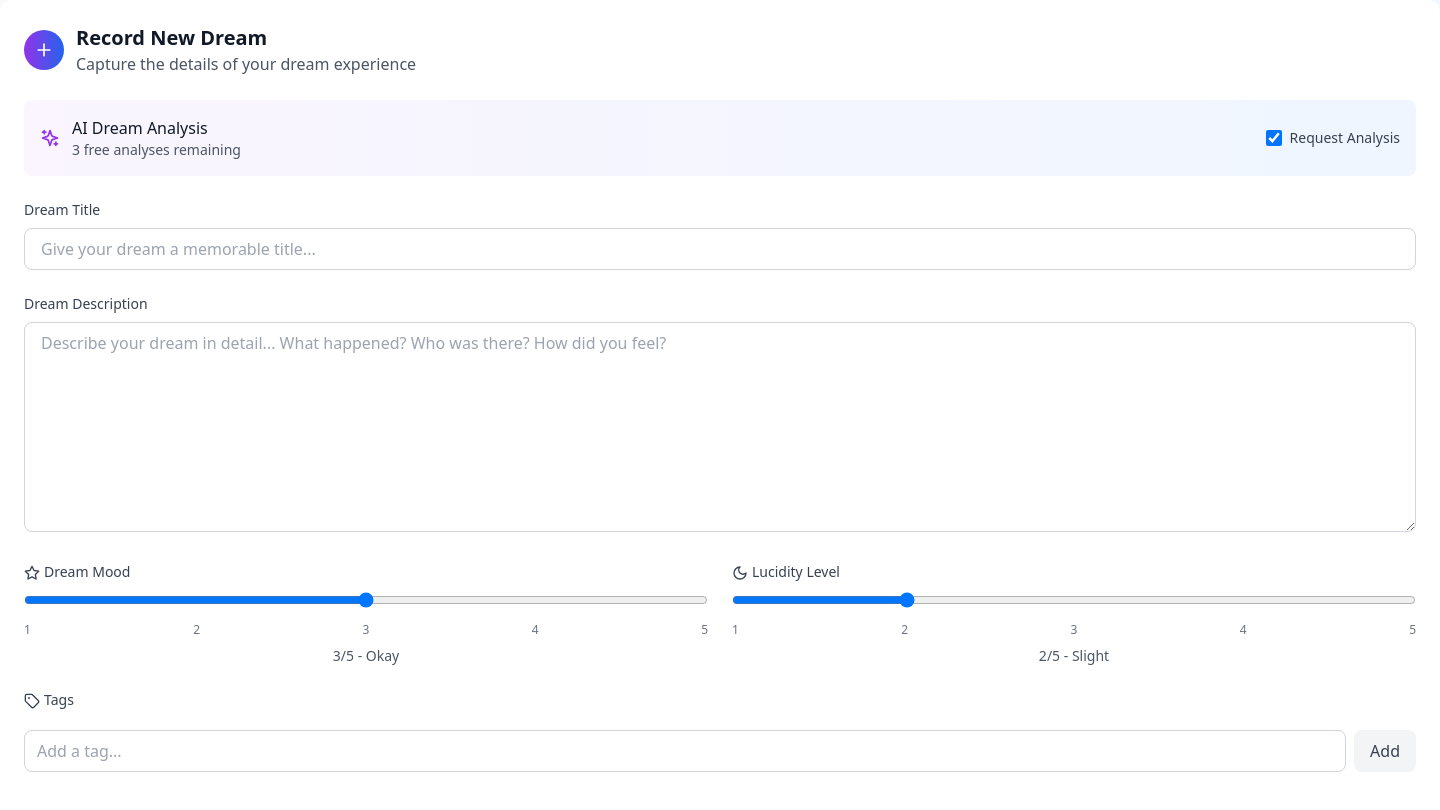
DreamForm › adds and removes tags correctly
Type "nightmare" into the field with placeholder "Add a tag...".
click(685, 751); type("nightmare")  # box [24,730,1346,772]
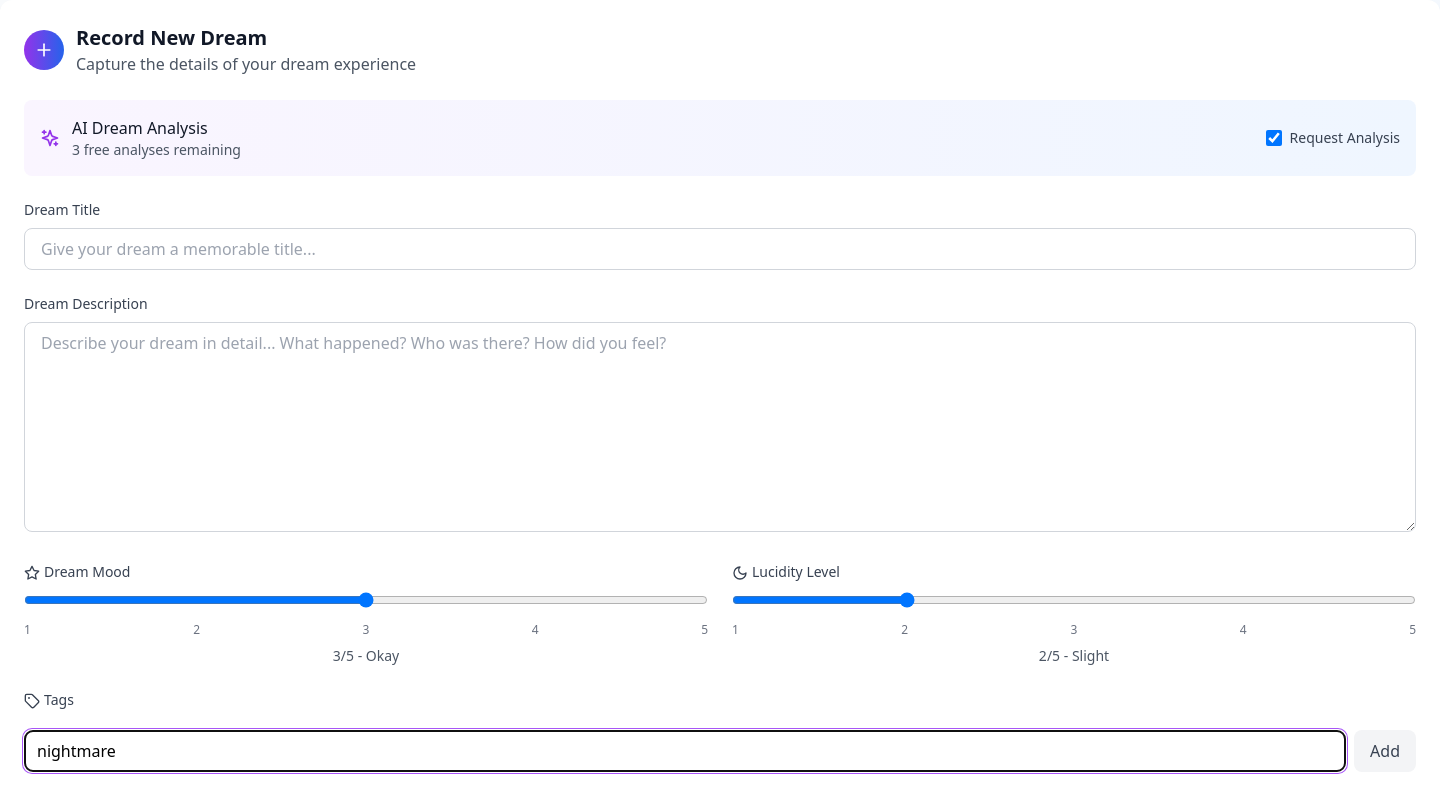
Click the button "Add".
click(1385, 751)  # box [1354,730,1416,772]
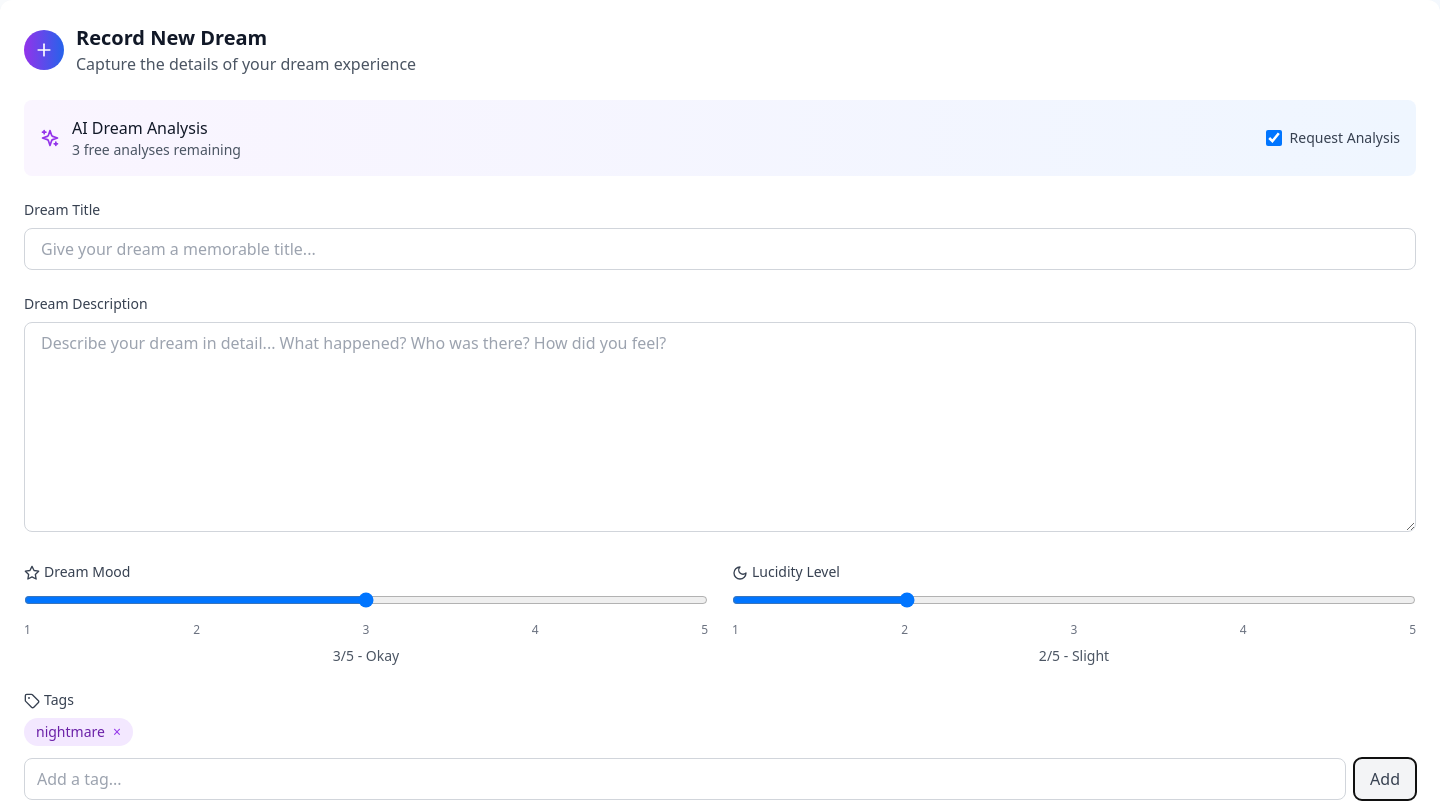
Now the text "nightmare" is shown, box [36,722,105,741]
// Remove tag
Click the button "×".
click(117, 732)  # box [113,722,121,742]
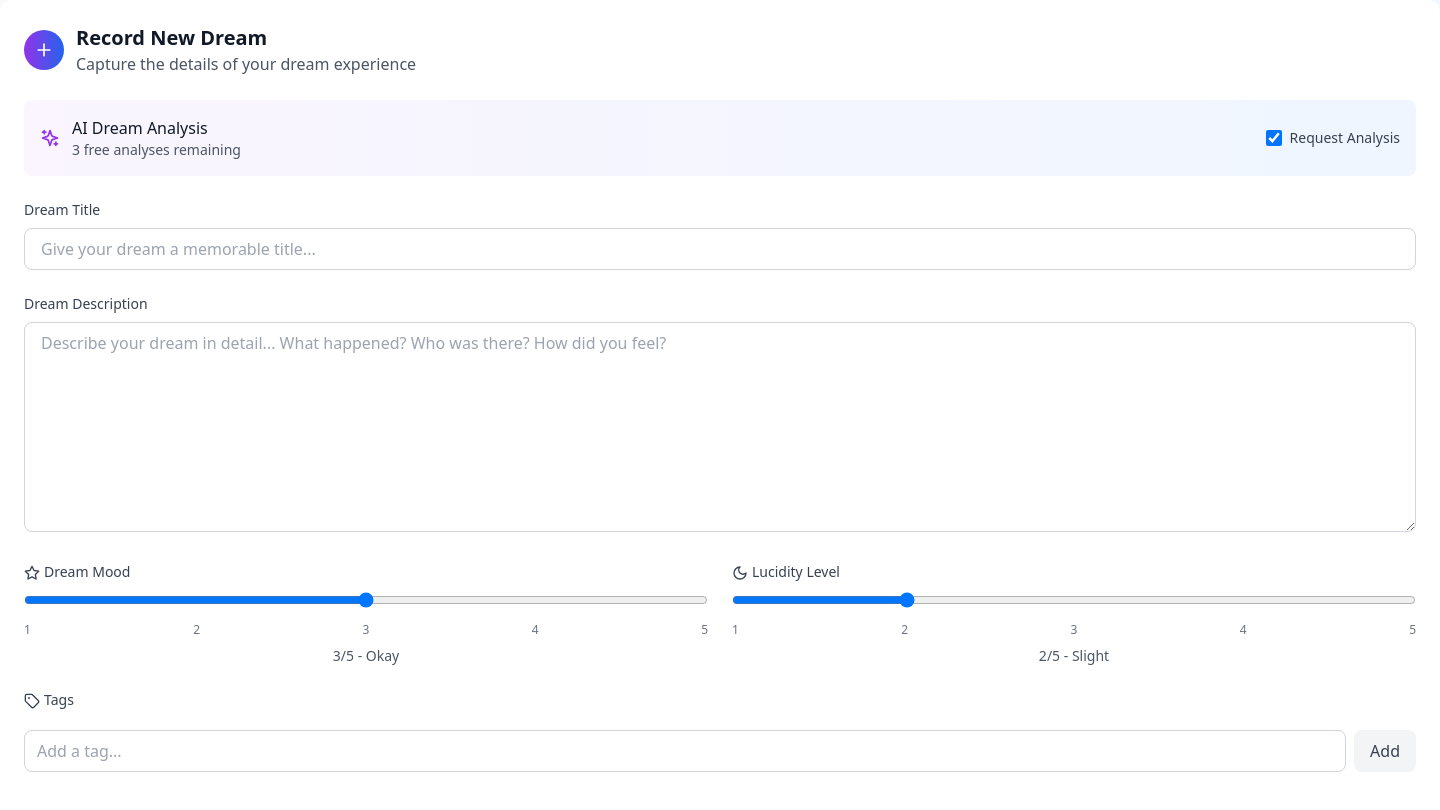
Now the text "nightmare" is gone
